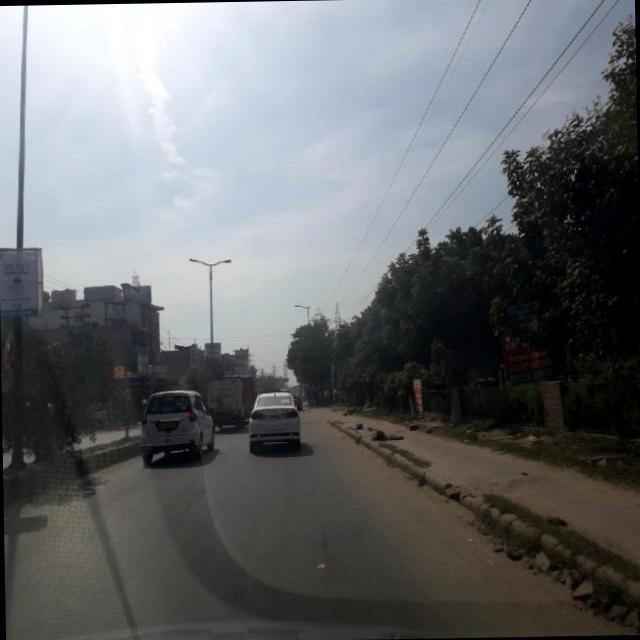pothole: (309, 507, 360, 633)
